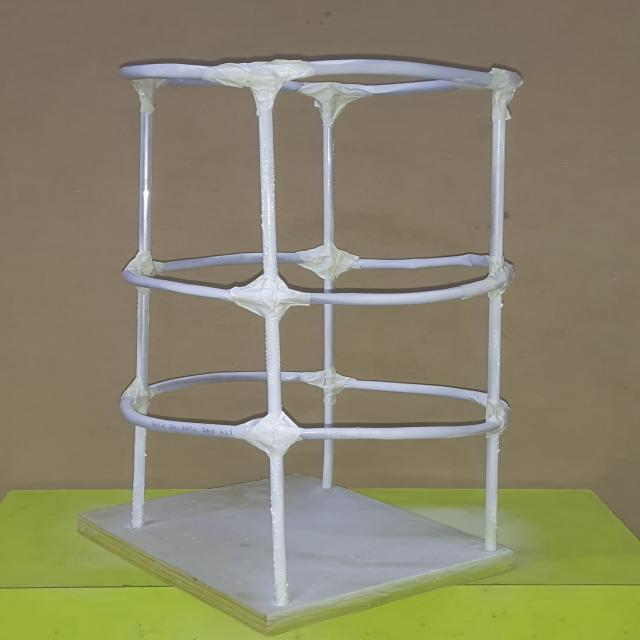silo: (104, 41, 532, 600)
